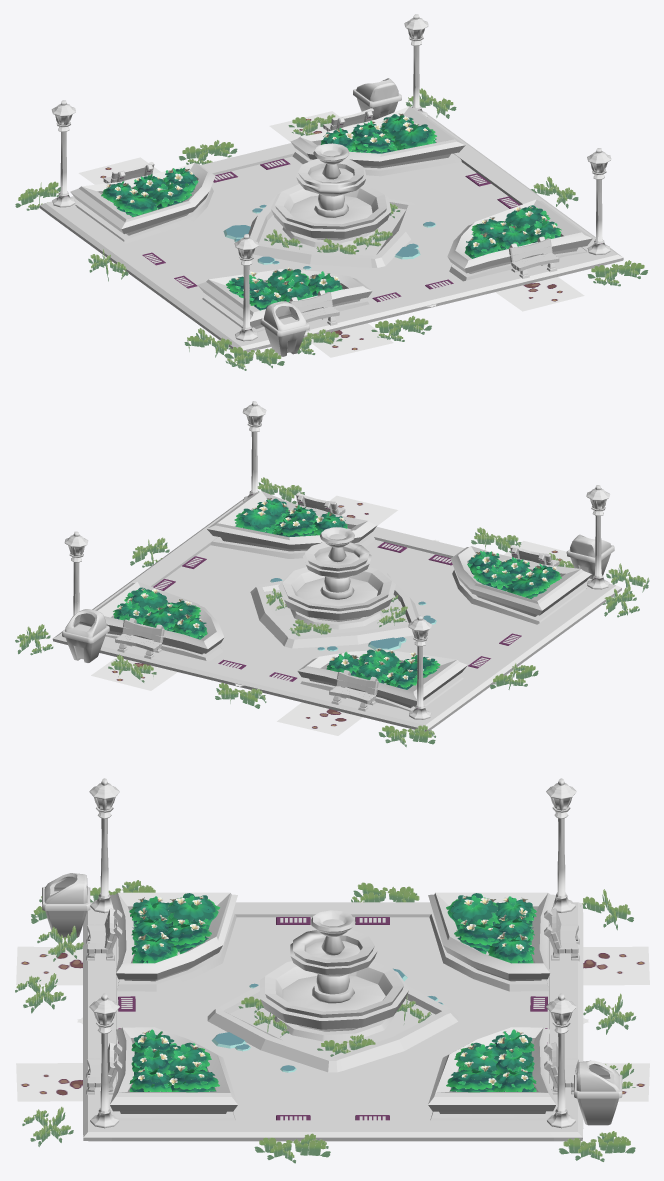
Rendered from Model_Fountain.fbx.
The picture shows the model from 3 angles, top to bottom: view 1: azimuth 30°, elevation 25°; view 2: azimuth 150°, elevation 25°; view 3: azimuth 270°, elevation 25°; orthographic projection. The views are drawn at different scales.
Parts seen in each view (by area): view 1: Plane.011, Cube.039, Cube, rumput, Cylinder, Plane.001, TEX_DEKOR.001, park lamp, bench.002, Cube.015, Plane.016, Cube.016 (+1 smaller); view 2: Plane.011, Cube.039, Cube, Cylinder, rumput, Plane.001, TEX_DEKOR.001, park lamp, bench.002, Cube.016, Plane.016, Cube.015 (+1 smaller); view 3: Plane.011, Cube.039, Cube, Cylinder, rumput, TEX_DEKOR.001, Plane.001, park lamp, bench.002, Cube.016, Cube.015, Plane.016 (+1 smaller).
Part boxes in pixels (bbox=[...]): Plane.011: bbox=[39, 114, 623, 352]; Cube.039: bbox=[70, 106, 592, 332]; Cube: bbox=[101, 113, 561, 310]; rumput: bbox=[15, 88, 648, 370]; Cylinder: bbox=[270, 143, 391, 247]; Plane.001: bbox=[248, 188, 420, 267]; TEX_DEKOR.001: bbox=[78, 111, 584, 357]; park lamp: bbox=[51, 14, 611, 341]; bench.002: bbox=[103, 108, 559, 331]; Cube.015: bbox=[260, 301, 309, 356]; Plane.016: bbox=[142, 158, 520, 302]; Cube.016: bbox=[353, 78, 401, 120]; Plane.011: bbox=[52, 499, 621, 731]; Cube.039: bbox=[95, 491, 591, 711]; Cube: bbox=[113, 498, 561, 689]; Cylinder: bbox=[278, 527, 395, 629]; rumput: bbox=[15, 477, 649, 747]; Plane.001: bbox=[250, 571, 418, 648]; TEX_DEKOR.001: bbox=[91, 495, 572, 735]; park lamp: bbox=[64, 401, 610, 719]; bench.002: bbox=[115, 492, 559, 711]; Cube.016: bbox=[62, 609, 109, 662]; Plane.016: bbox=[153, 542, 521, 681]; Cube.015: bbox=[566, 534, 614, 578]; Plane.011: bbox=[83, 902, 583, 1141]; Cube.039: bbox=[110, 892, 555, 1120]; Cube: bbox=[129, 893, 536, 1092]; Cylinder: bbox=[260, 910, 409, 1041]; rumput: bbox=[15, 880, 636, 1163]; TEX_DEKOR.001: bbox=[16, 946, 649, 1101]; Plane.001: bbox=[207, 985, 458, 1072]; park lamp: bbox=[89, 778, 576, 1128]; bench.002: bbox=[86, 908, 579, 1095]; Cube.016: bbox=[574, 1060, 622, 1125]; Cube.015: bbox=[42, 873, 90, 937]; Plane.016: bbox=[118, 917, 547, 1120].
Bounding box in the file's own units: 2400 × 582 × 2341.
